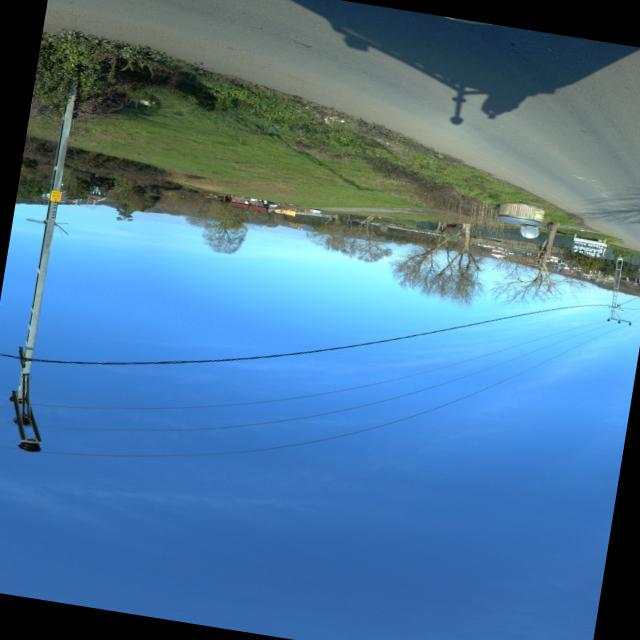Utility Pole Information Plate: (49, 189, 61, 201)
